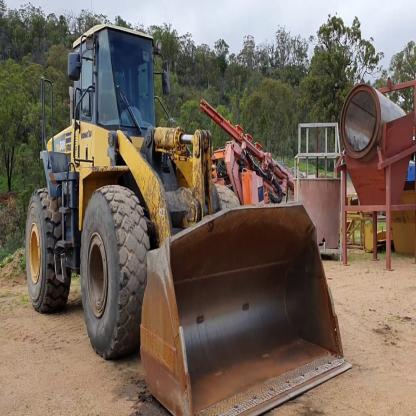bull_dozer/loader/grader: (16, 21, 352, 416)
